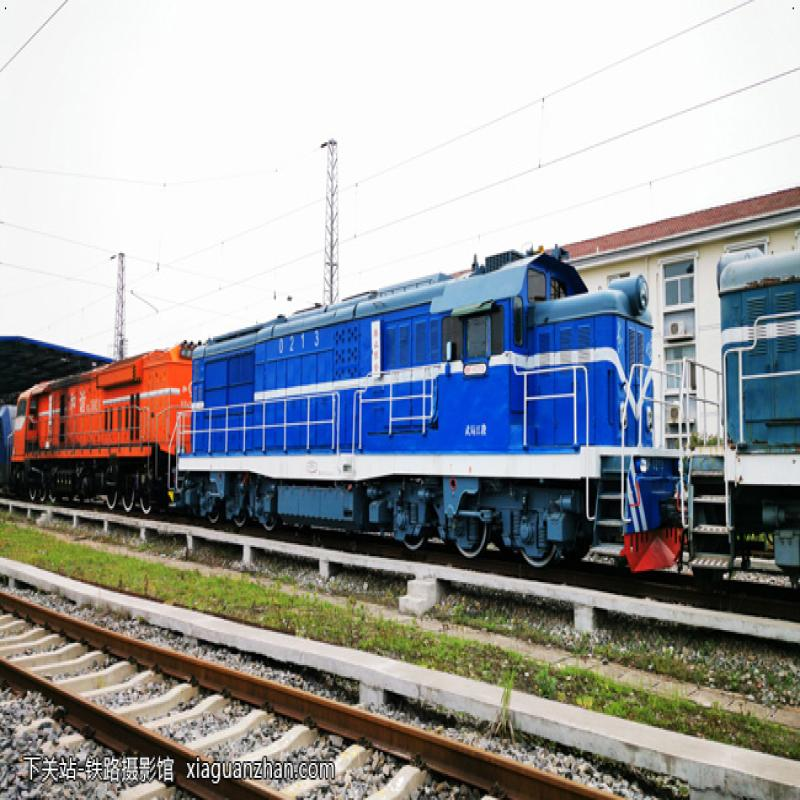train: (176, 238, 704, 592), (8, 335, 198, 524)
